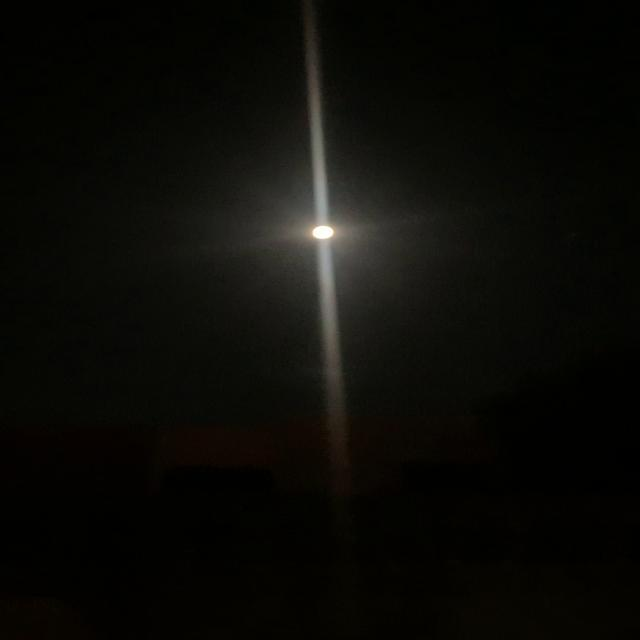moon: (297, 217, 361, 250)
